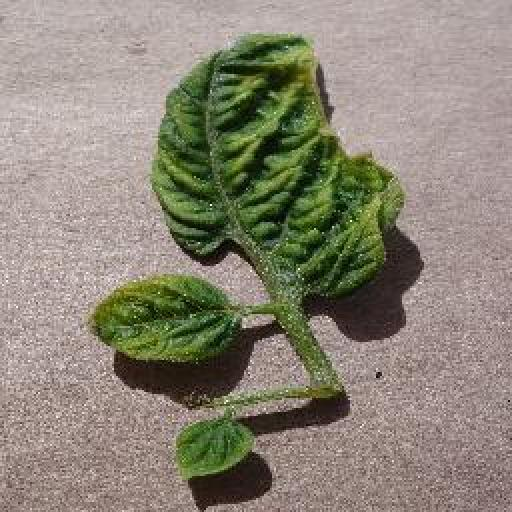disease_tomato: (154, 30, 403, 302), (90, 274, 236, 366)
